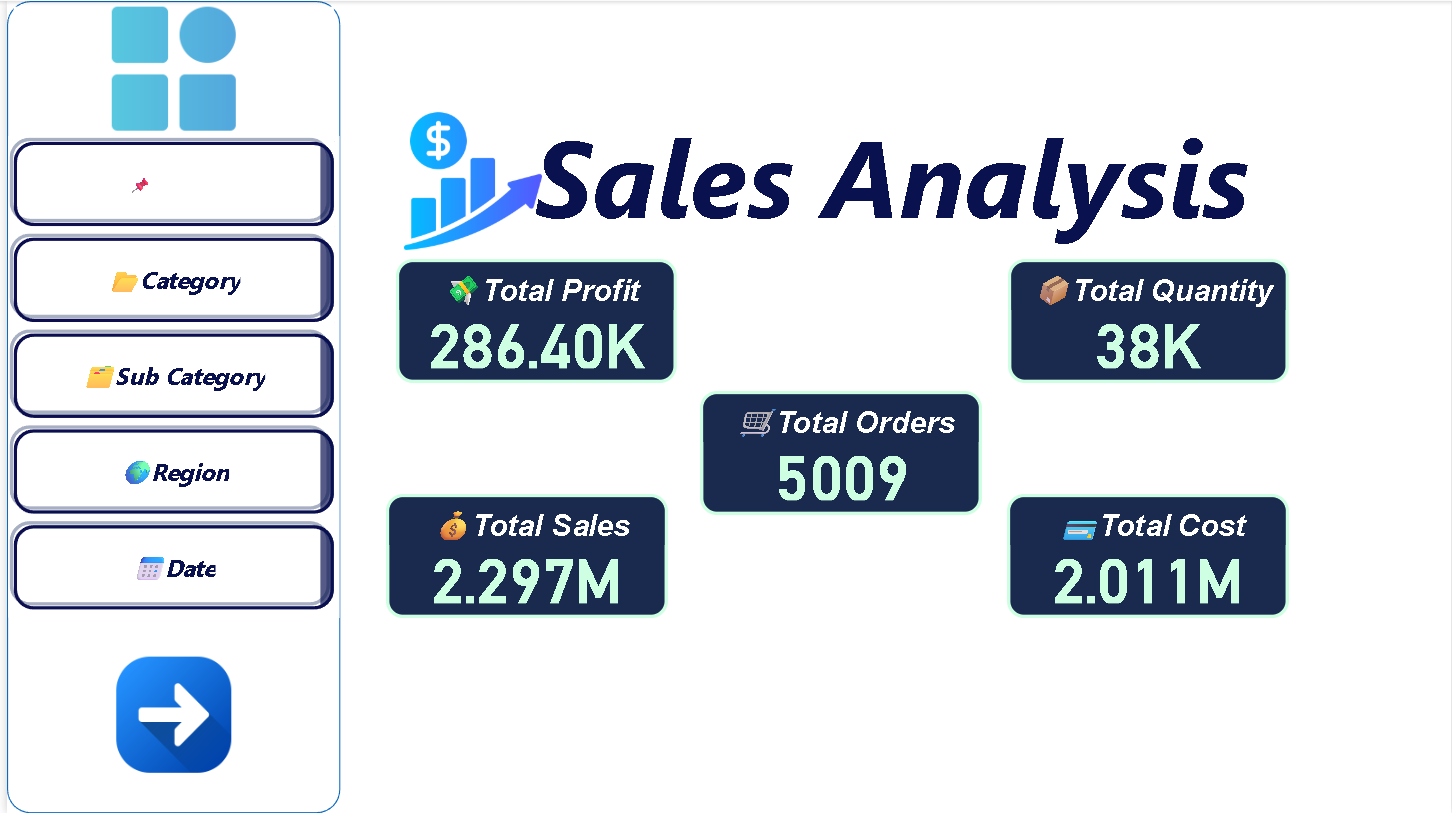

The dashboard page shown, as its layout file describes it:
{"tool":"powerbi","page":{"name":"📌 Overview","canvas":[1280,720],"ordinal":0},"visuals":[{"type":"shape","title":"📈","box":[0,0,295.6,720.2],"z":0,"group":"g1"},{"type":"textbox","box":[461.8,84.5,667.3,144.5],"z":0},{"type":"image","box":[233.6,84.5,360,150.9],"z":1000},{"type":"card","title":"💰Total Sales","fields":{"Values":["DAX Measure.Total_sales"]},"box":[336.4,437.3,250,110],"z":2000},{"type":"card","title":"🛒Total Orders","fields":{"Values":["DAX Measure.Total_order"]},"box":[614.5,345.5,250,110],"z":3000},{"type":"card","title":"💸Total Profit","fields":{"Values":["DAX Measure.Total_profit"]},"box":[344.5,229.1,249.1,110],"z":4000},{"type":"card","title":"📦Total Quantity","fields":{"Values":["DAX Measure.Total_quantity"]},"box":[887.3,229.1,249.1,110],"z":5000},{"type":"card","title":"💳Total Cost","fields":{"Values":["DAX Measure.Total_cost"]},"box":[886.4,437.3,250,110],"z":6000},{"type":"group","id":"g1","title":"Group 1","box":[0,0,295.6,720.2],"z":7000},{"type":"image","box":[0.9,0,294.4,119.7],"z":8000},{"type":"pageNavigator","box":[1.2,119.4,294.4,427.1],"z":8000,"group":"g1"},{"type":"image","box":[0.9,576.4,294.4,112.6],"z":9000}]}

Visuals, with their boxes in screenshot pixels (x1, y1, x2, y2), scaled from the page's 1280x720 canvas onto the 1452x813 screenshot:
"📈" shape: [x1=0, y1=0, x2=335, y2=812]
textbox: [x1=524, y1=95, x2=1281, y2=259]
image: [x1=265, y1=95, x2=673, y2=266]
"💰Total Sales" card: [x1=382, y1=494, x2=665, y2=618]
"🛒Total Orders" card: [x1=697, y1=390, x2=981, y2=514]
"💸Total Profit" card: [x1=391, y1=259, x2=673, y2=383]
"📦Total Quantity" card: [x1=1007, y1=259, x2=1289, y2=383]
"💳Total Cost" card: [x1=1006, y1=494, x2=1289, y2=618]
"Group 1" group: [x1=0, y1=0, x2=335, y2=812]
image: [x1=1, y1=0, x2=335, y2=135]
pageNavigator: [x1=1, y1=135, x2=335, y2=617]
image: [x1=1, y1=651, x2=335, y2=778]
